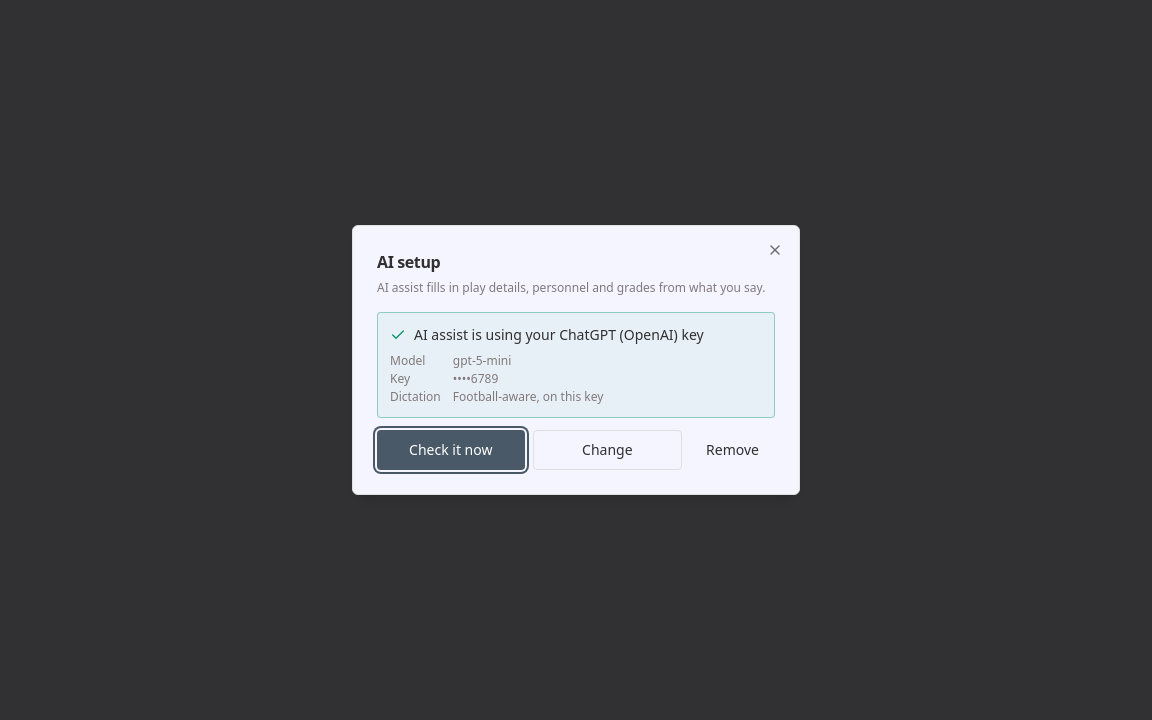
Test case: AI setup screen › lets a coach remove a saved key, after confirming
Expected: the text "AI assist is using your ChatGPT (OpenAI) key" is shown, [390,325,704,344]
Click the button "Remove": (733, 450) [690,430,775,470]
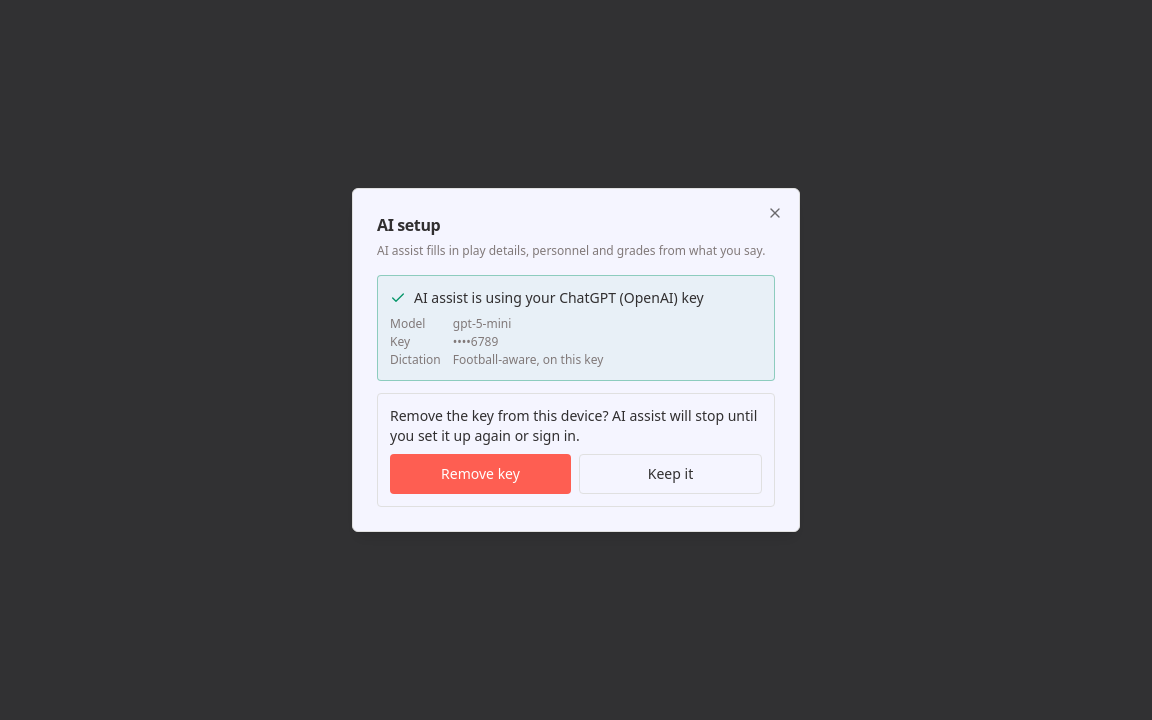
Click the button "Remove key": (480, 474) [390,454,571,494]
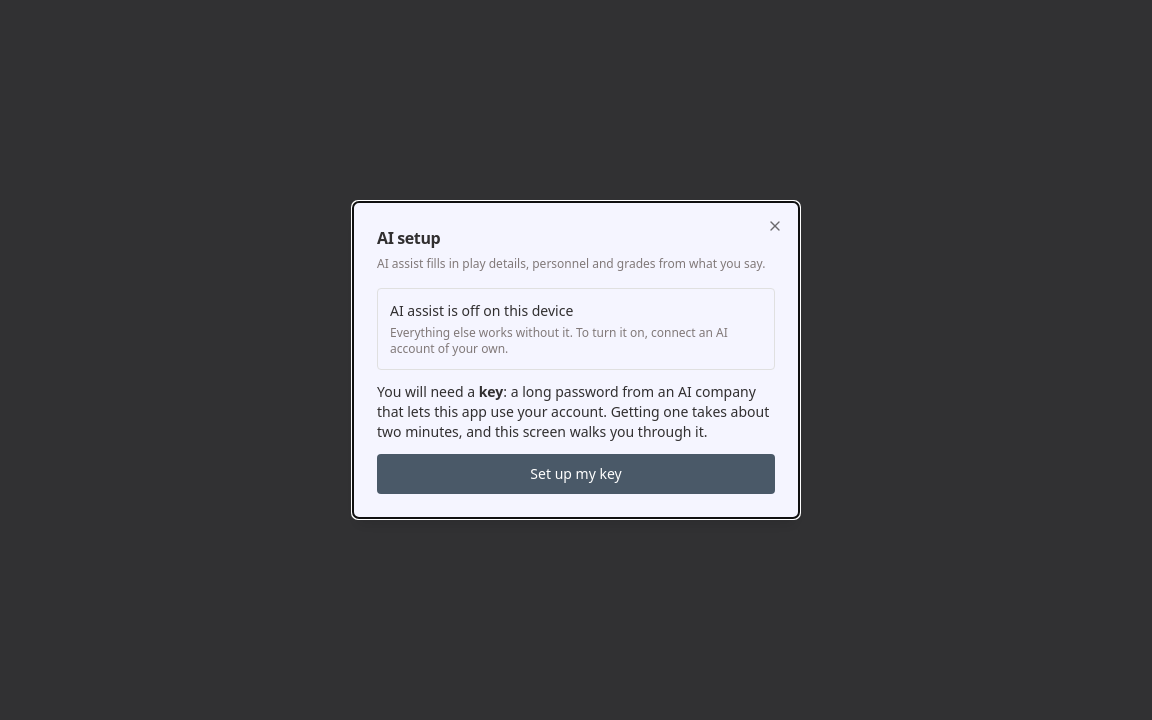
Expected: the text "AI assist is off on this device" is shown, [390,301,573,320]
